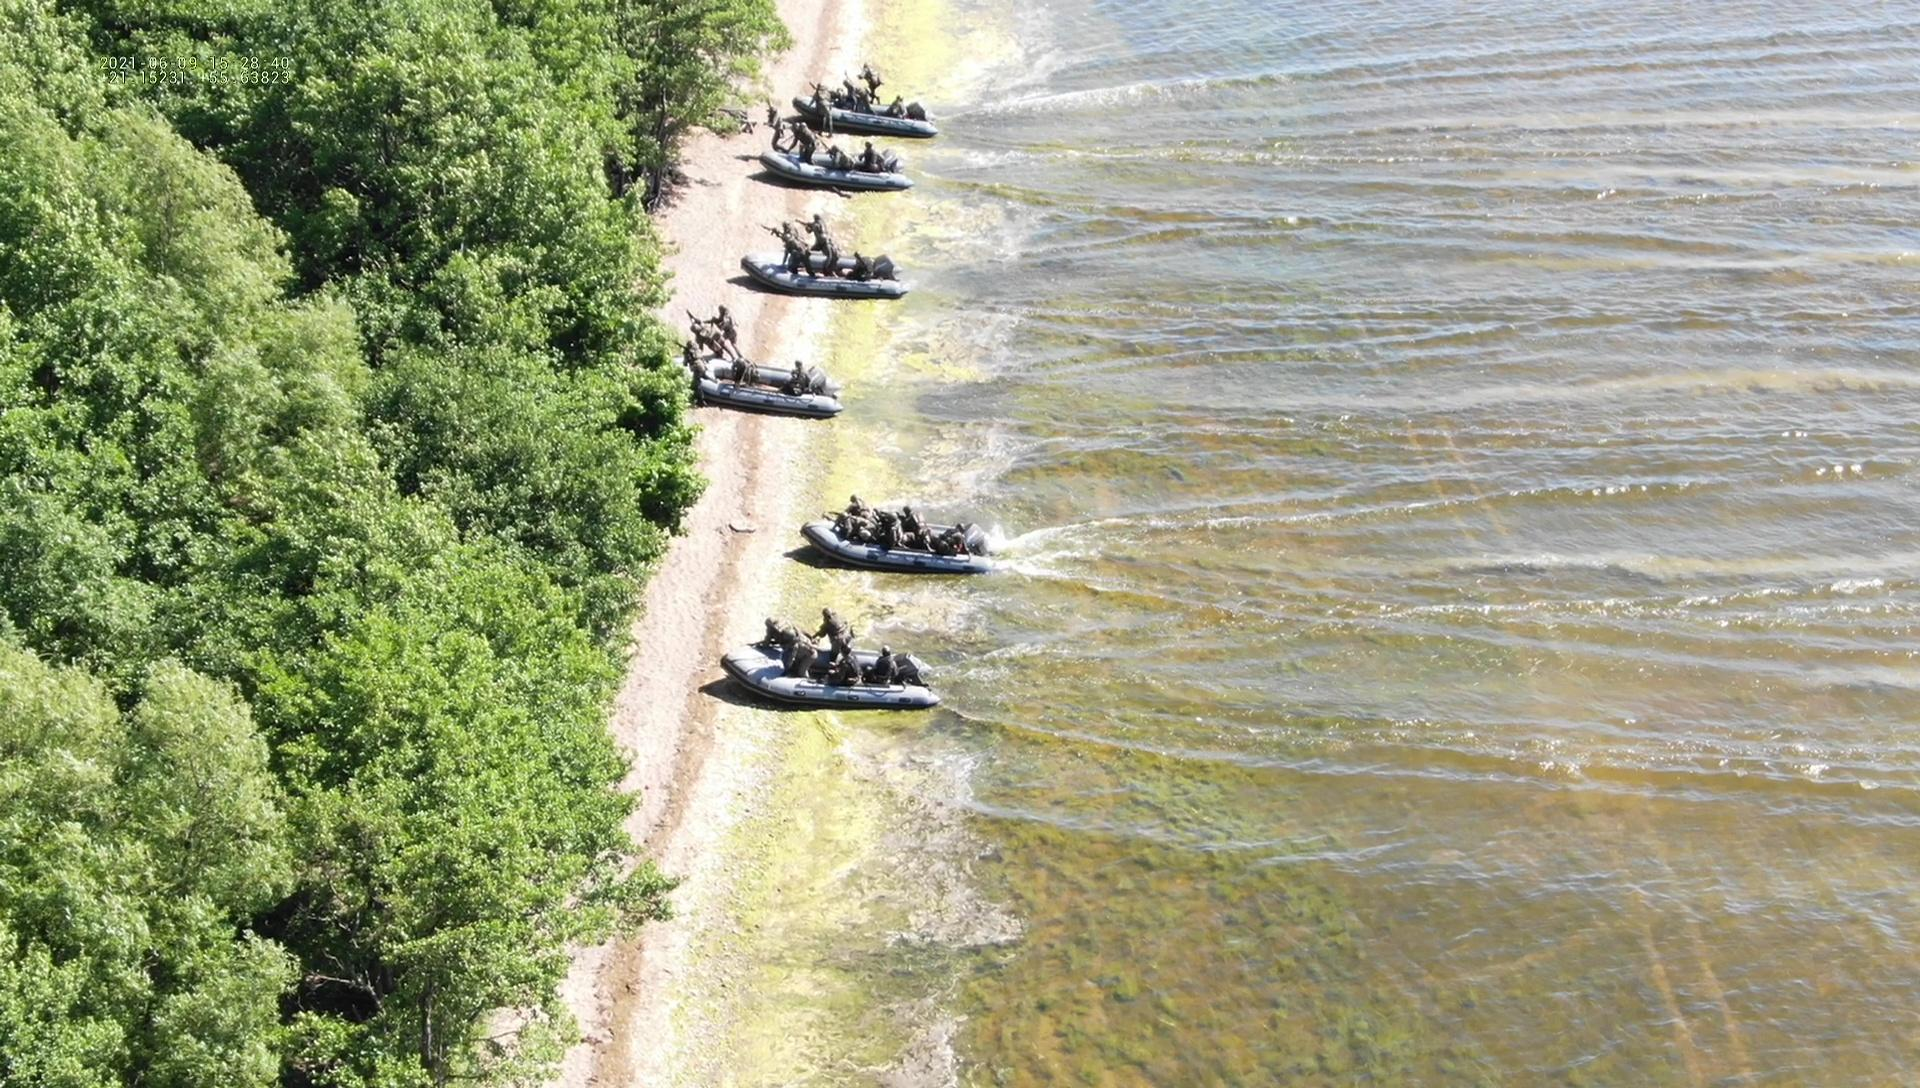Soldier: (675, 340, 708, 411), (705, 305, 745, 357), (781, 628, 819, 679), (687, 309, 725, 357), (898, 502, 936, 551), (812, 607, 857, 648), (785, 231, 820, 280), (862, 645, 901, 687), (825, 646, 862, 688), (764, 96, 787, 156), (795, 211, 829, 251), (787, 120, 818, 164), (818, 136, 856, 167), (816, 233, 843, 278), (761, 219, 794, 255), (857, 59, 884, 103), (764, 615, 795, 650), (877, 510, 903, 553)
